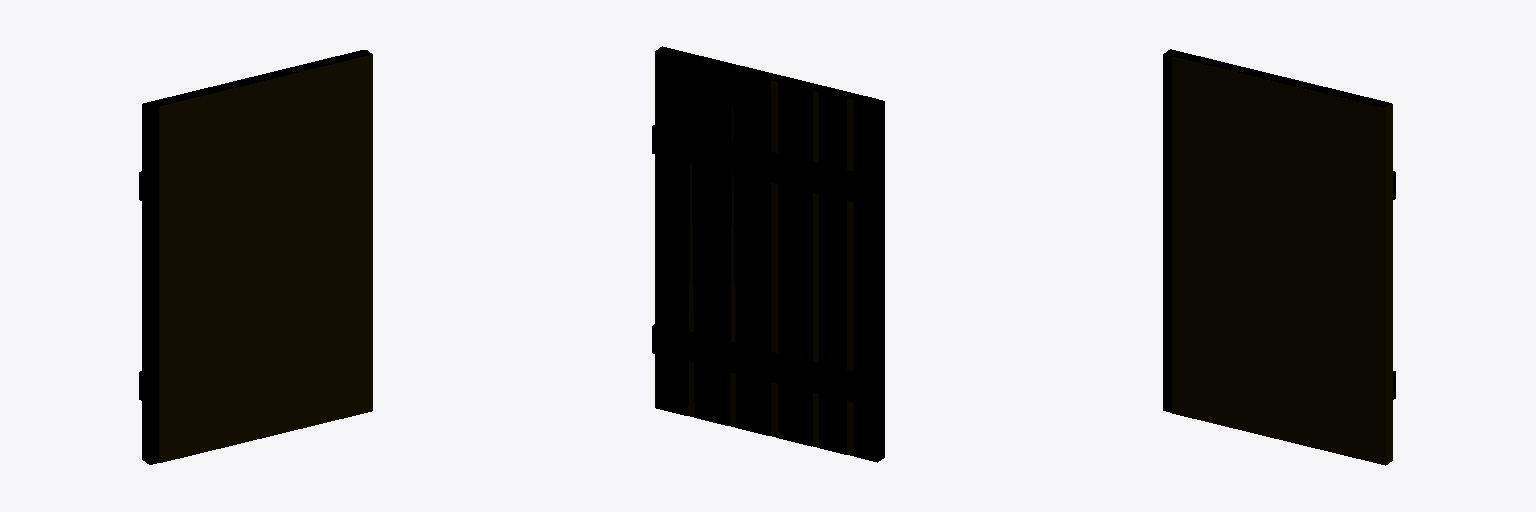
Rendered from door.obj.
3 renders of one model, left to right at view 1: azimuth 30°, elevation 25°; view 2: azimuth 150°, elevation 25°; view 3: azimuth 330°, elevation 25°, orthographic.
Visible parts, largest first — view 1: door; view 2: door; view 3: door.
Part boxes in pixels (x1,y1,x2,y2): door: (139, 50, 372, 464); door: (652, 46, 884, 462); door: (1163, 49, 1395, 465).
Bounding box in the file's own units: 0.9576 × 1.46 × 0.0846.